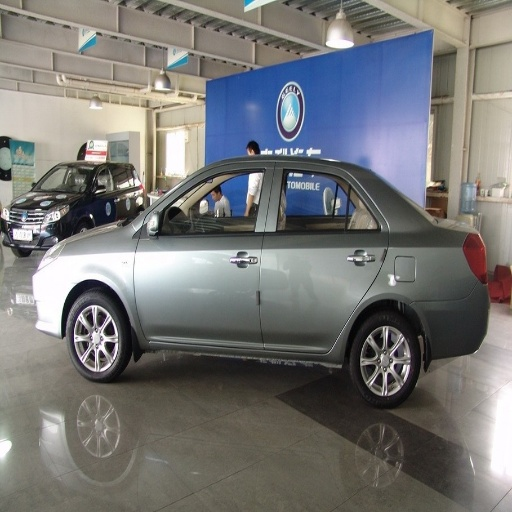back_bumper: (422, 313, 486, 357)
back_glass: (277, 1, 370, 52)
back_left_door: (259, 162, 386, 352)
tailgate: (245, 47, 355, 126)
trunk: (305, 52, 418, 130)
